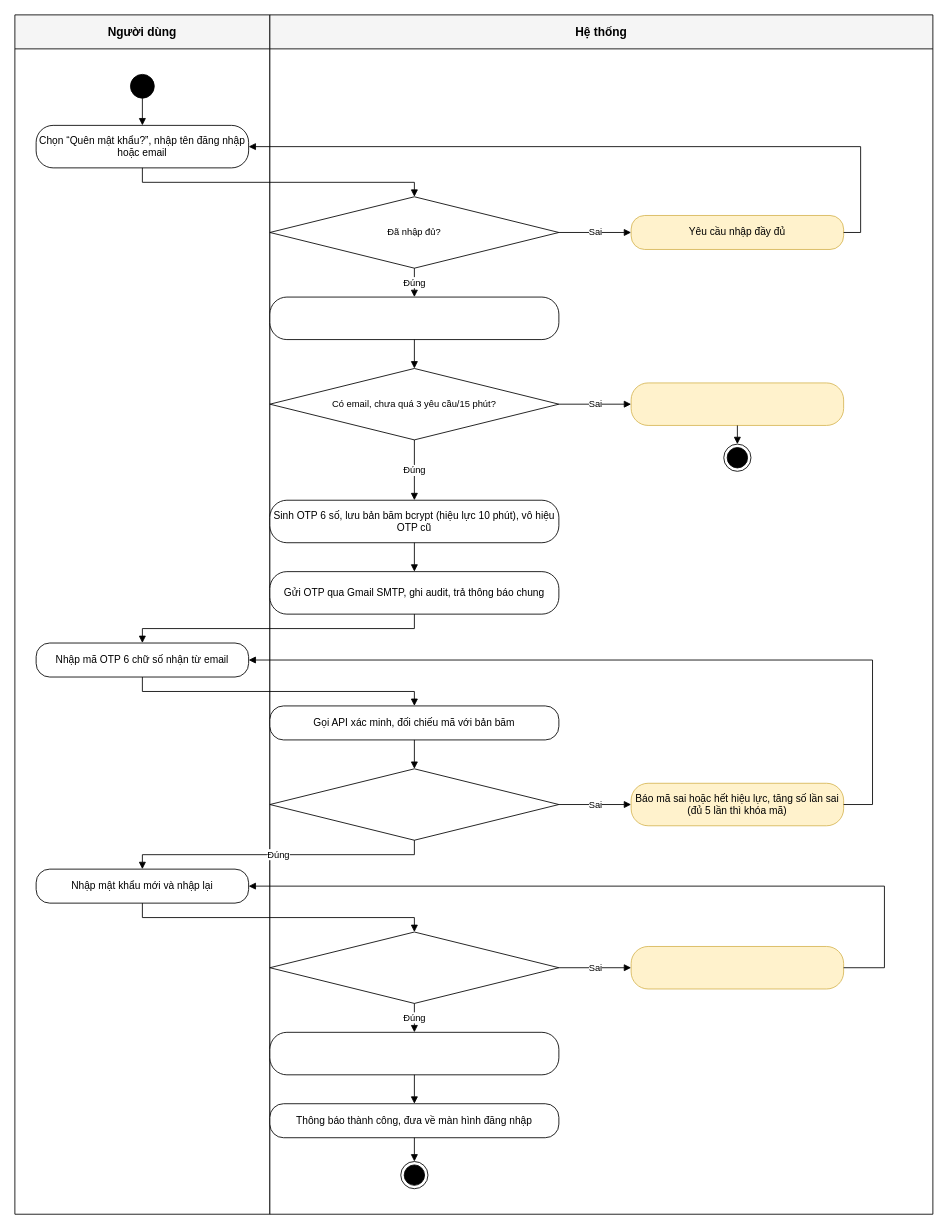
The diagram is 948 pixels wide and 1229 high, and some of its shapes have lost their labels. The centre of each missing label's shape, as x and y in pixels:
Báo lỗi, giữ nguyên bước đặt mật khẩu: the point at 737,967
Dài 6–72 ký tự và hai lần khớp?: the point at 414,967
Gọi API yêu cầu mã, kiểm tra tài khoản, email và hạn mức yêu cầu: the point at 414,318
Không tạo OTP, vẫn trả thông báo chung để không lộ tài khoản: the point at 737,403
Lưu bản băm bcrypt, đánh dấu OTP đã dùng, ghi audit: the point at 414,1053
OTP đúng, còn hạn, chưa dùng, chưa khóa?: the point at 414,804
